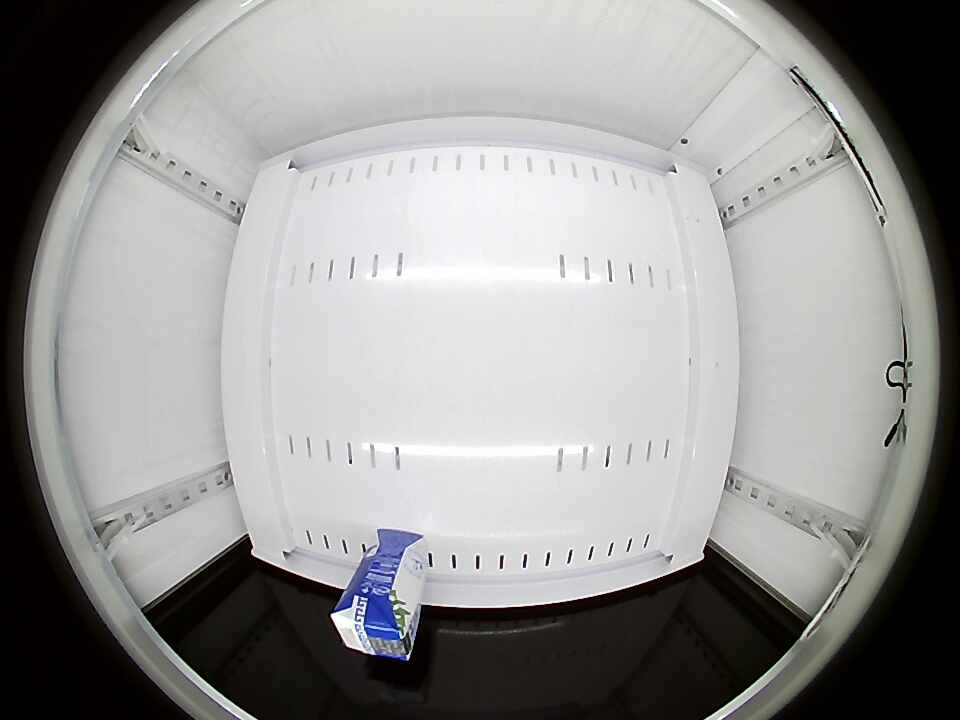anmuxi: (331, 586, 417, 661)
